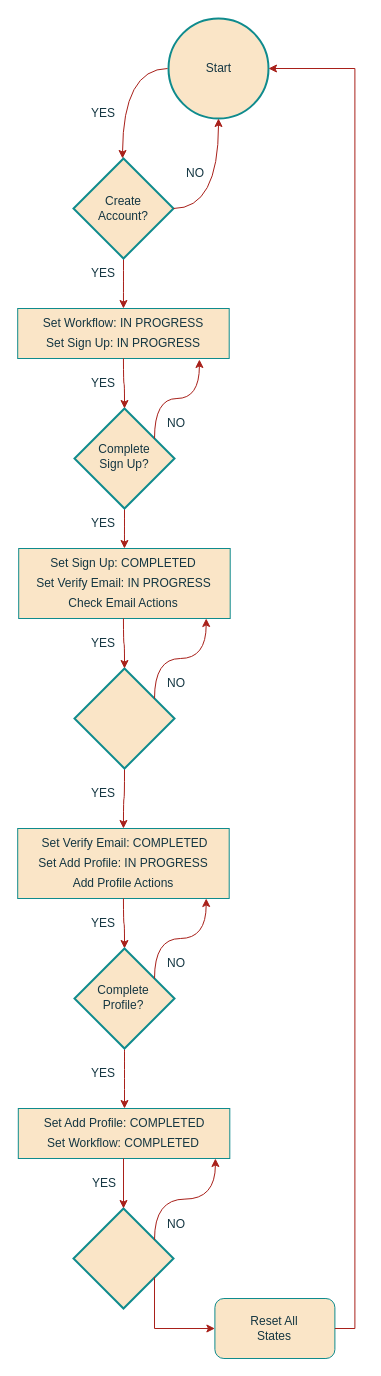
Some shapes in this 381 by 1376 pixel diagram are drawn without their labels. The shapes that lost their labels are listed below. From the top down, each one's centre as x and y in pixels, then its label:
(124,718): Complete Email Verification?
(123,1258): New Profile?
